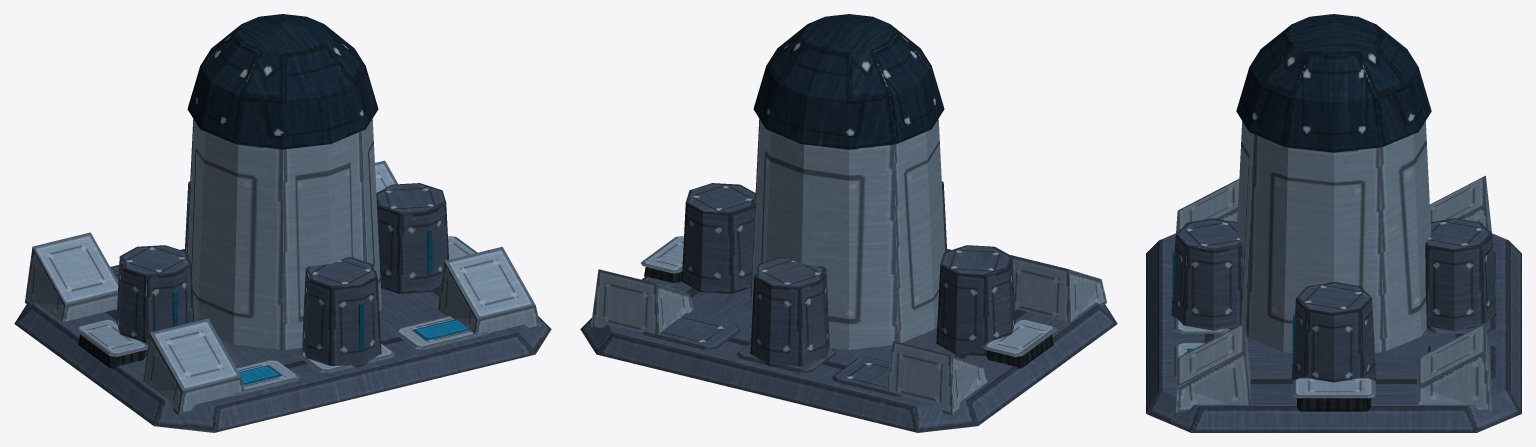
The model's file is building-strategic_lab.fbx.
3 renders of one model, left to right at view 1: azimuth 30°, elevation 25°; view 2: azimuth 150°, elevation 25°; view 3: azimuth 270°, elevation 25°, orthographic. The views are drawn at different scales.
Parts seen in each view (by area): view 1: building-strategic_lab; view 2: building-strategic_lab; view 3: building-strategic_lab.
Part boxes in pixels (x1,y1,x2,y2): building-strategic_lab: (14,14,551,432); building-strategic_lab: (580,14,1117,432); building-strategic_lab: (1146,14,1521,432).
Bounding box in the file's own units: 3640 × 2657 × 2912.
1 material, 1 textured.
